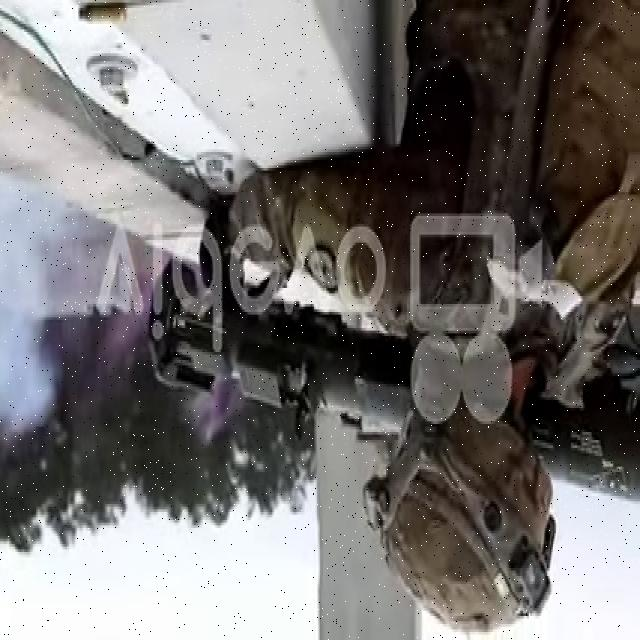bazooka: (149, 254, 640, 516)
